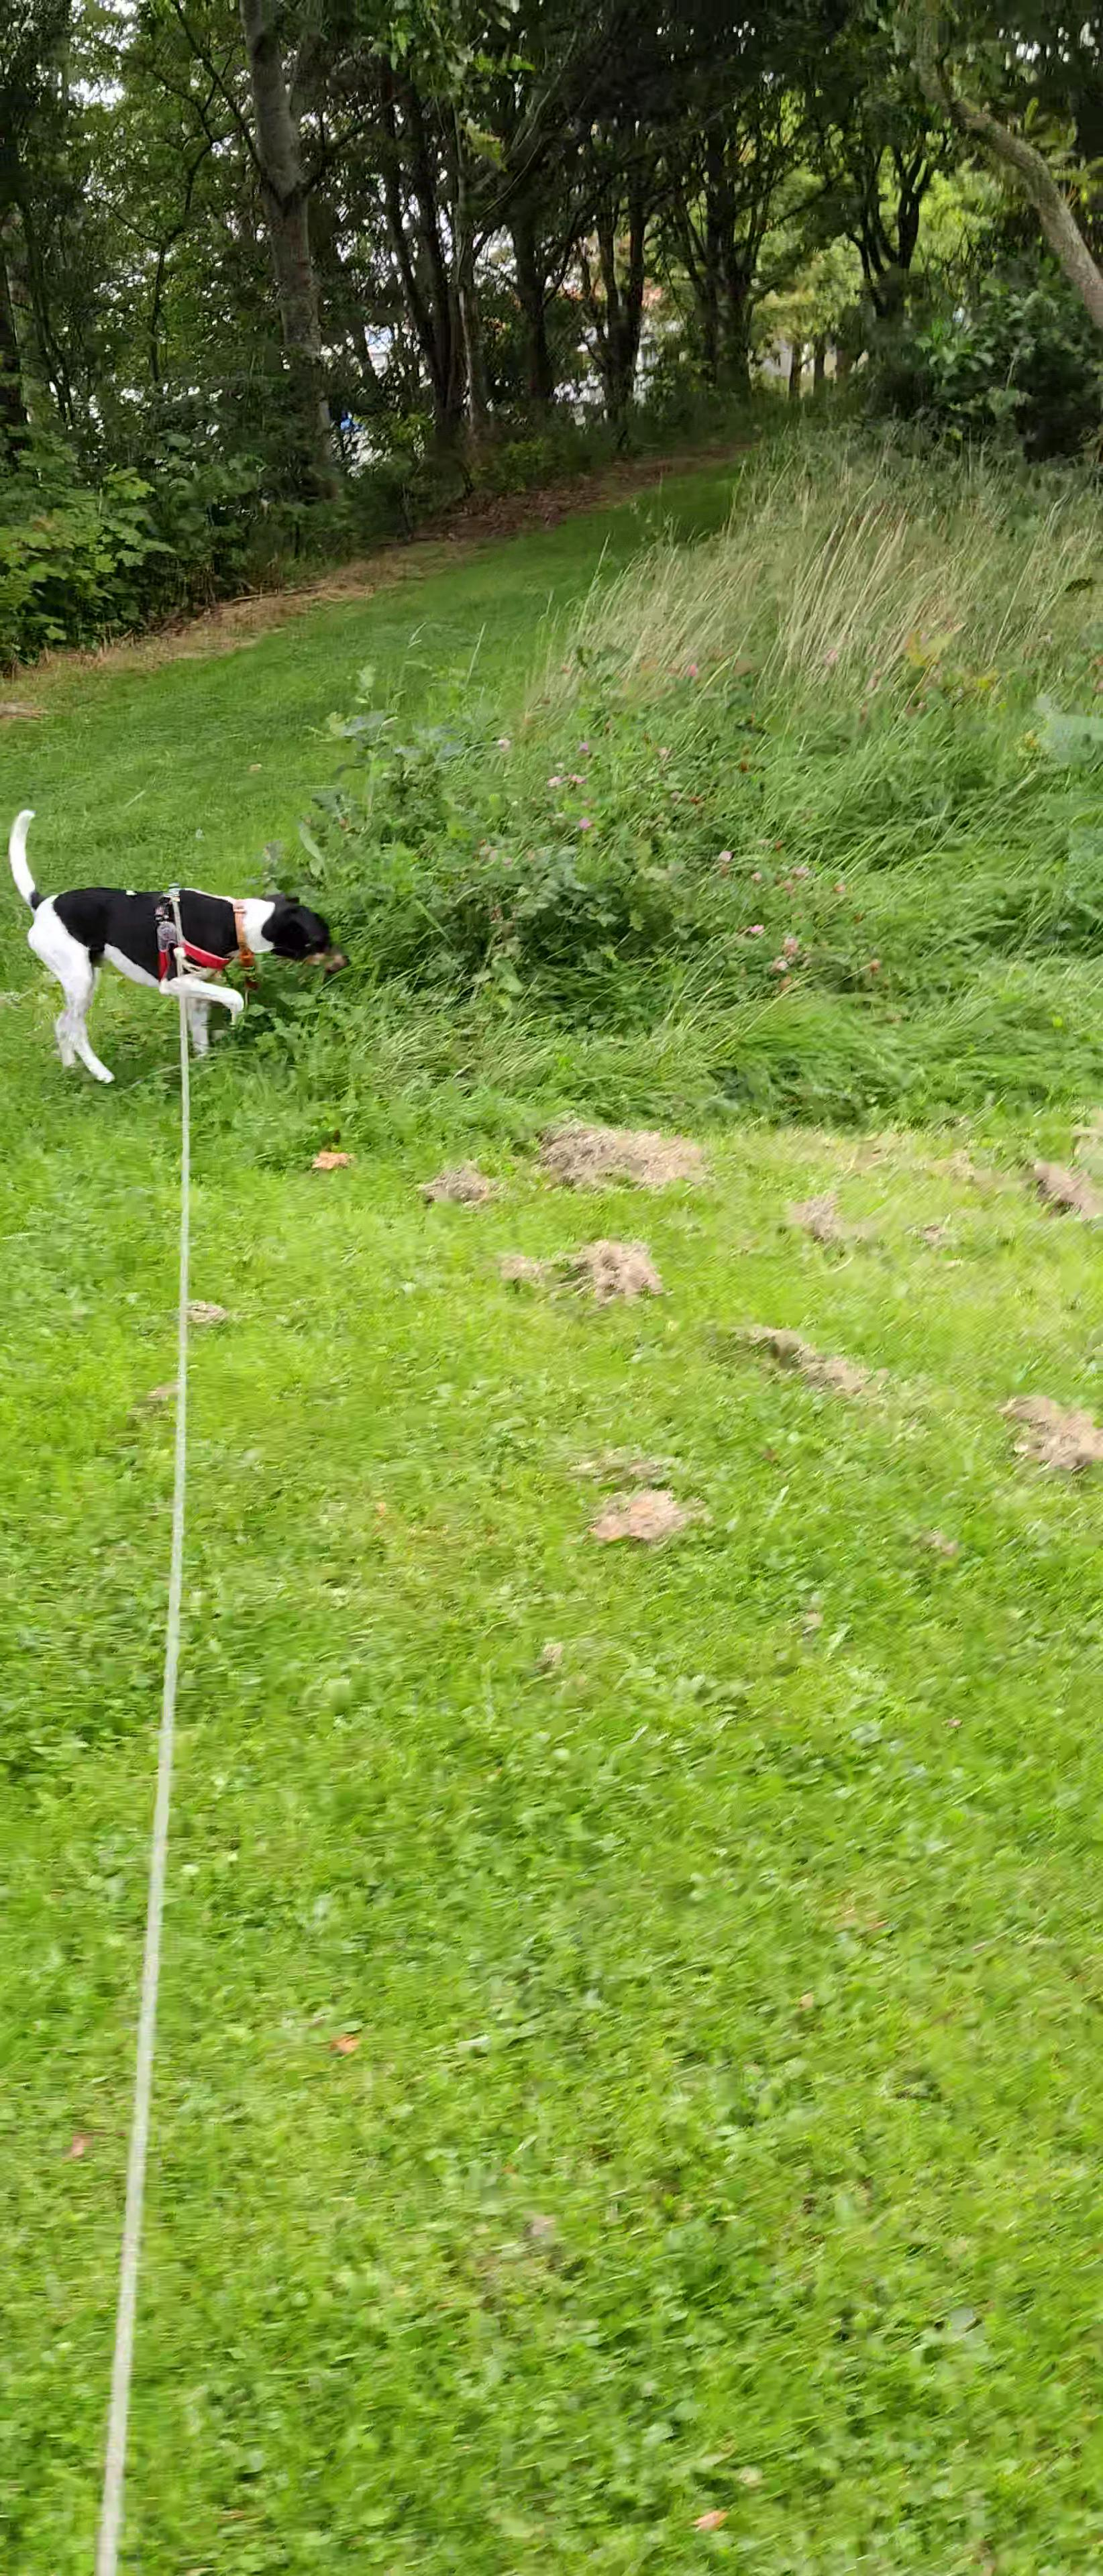Dog: (5, 807, 357, 1091)
